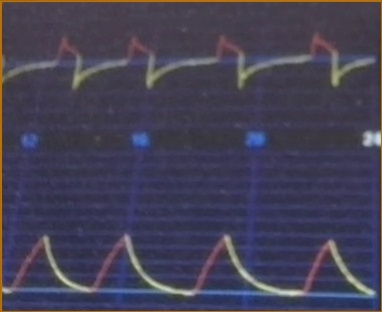Normal Flow: (4, 26, 376, 100)
Normal Volume: (4, 220, 374, 304)
